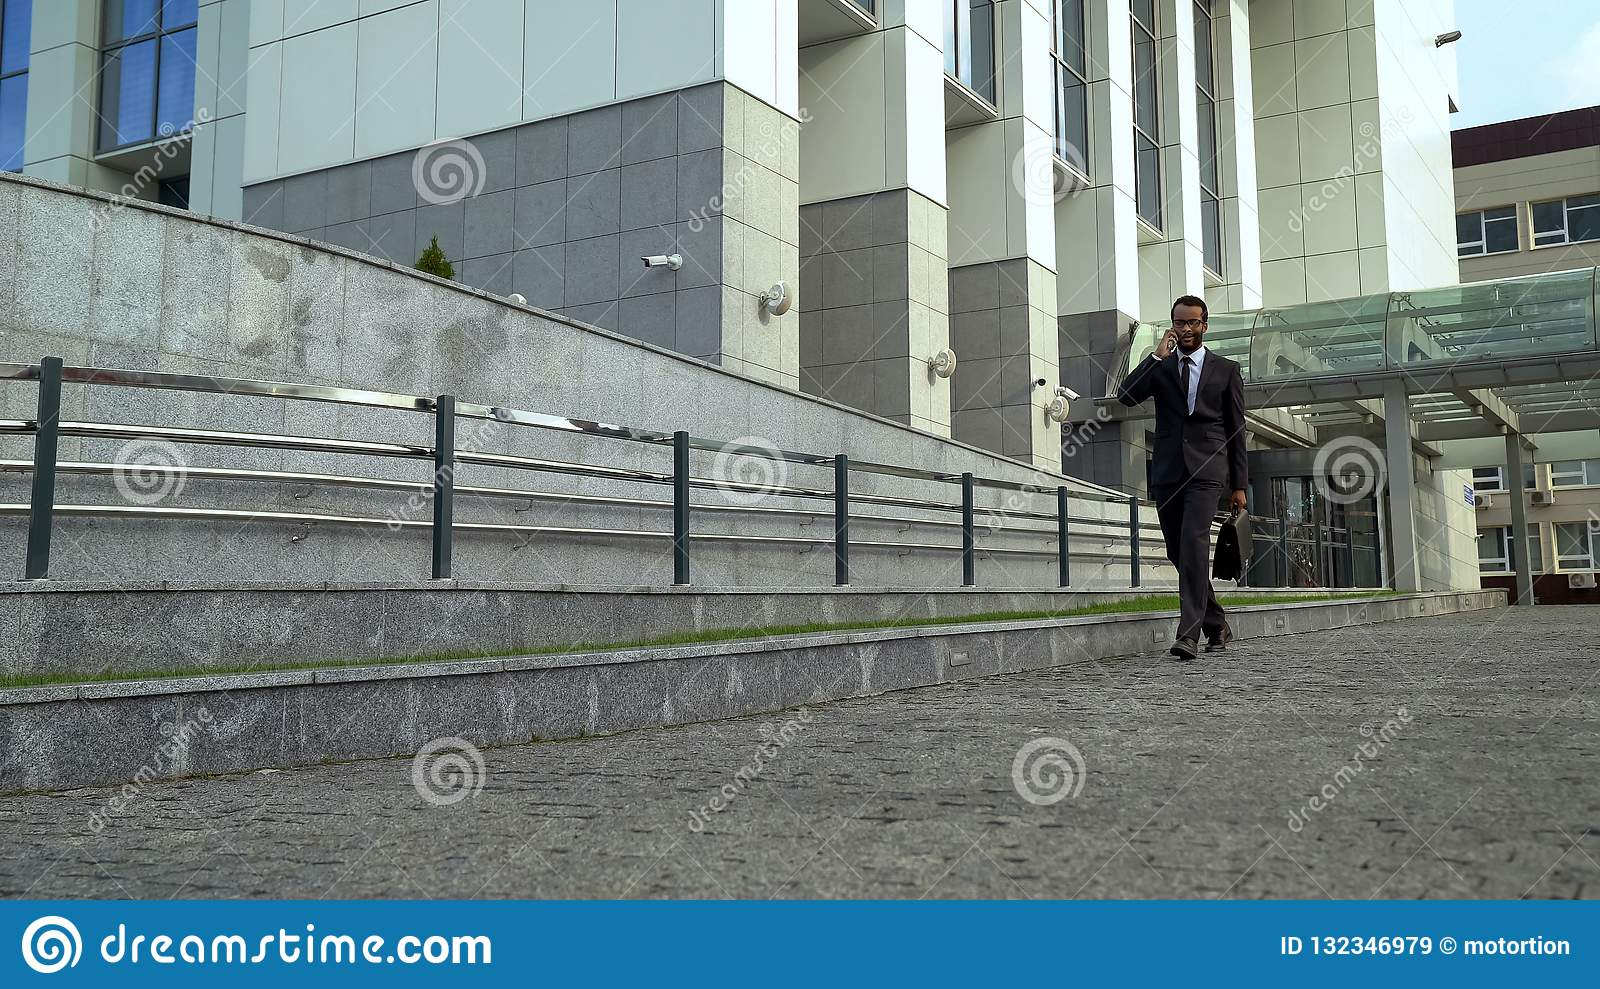phone: (1165, 324, 1179, 352)
talk: (1158, 318, 1201, 356)
